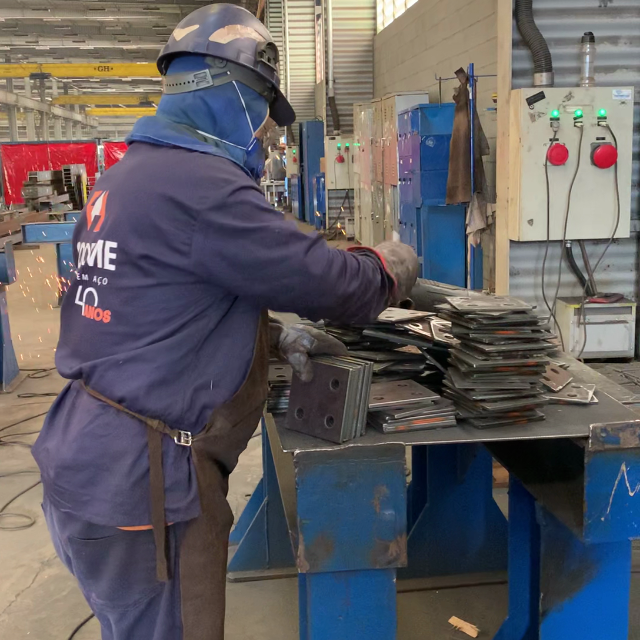glove: (376, 241, 420, 308)
person: (34, 1, 423, 611), (153, 2, 297, 129)
